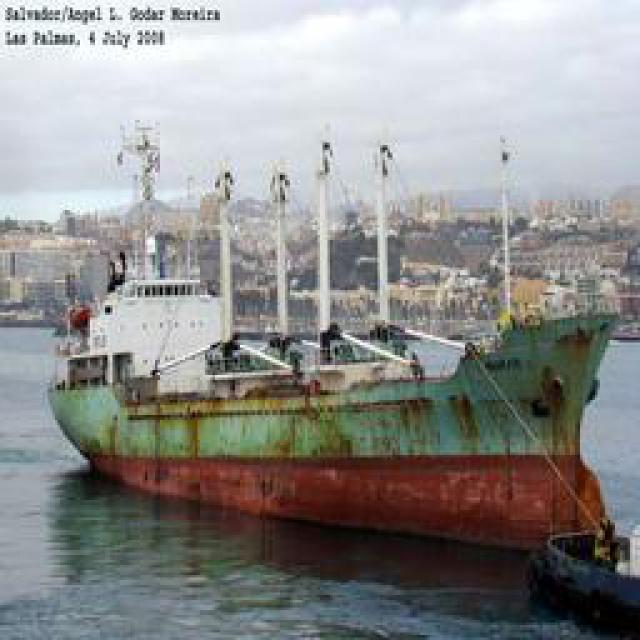Ship: (51, 280, 609, 540)
